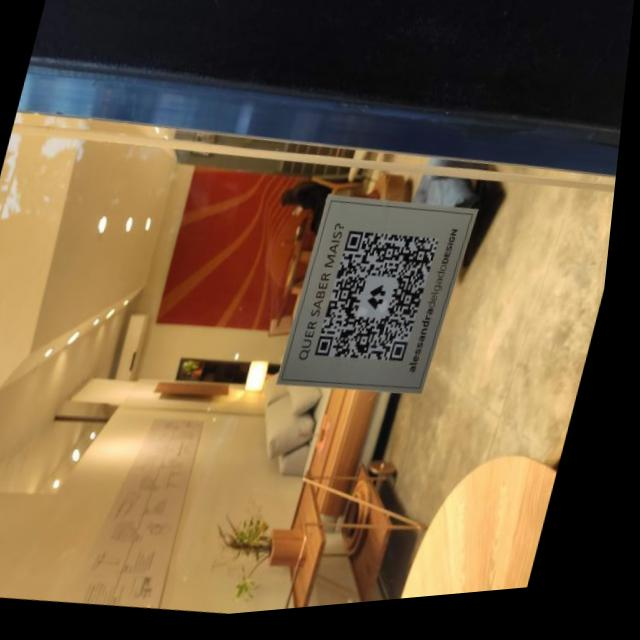qrcode: (323, 231, 448, 377)
